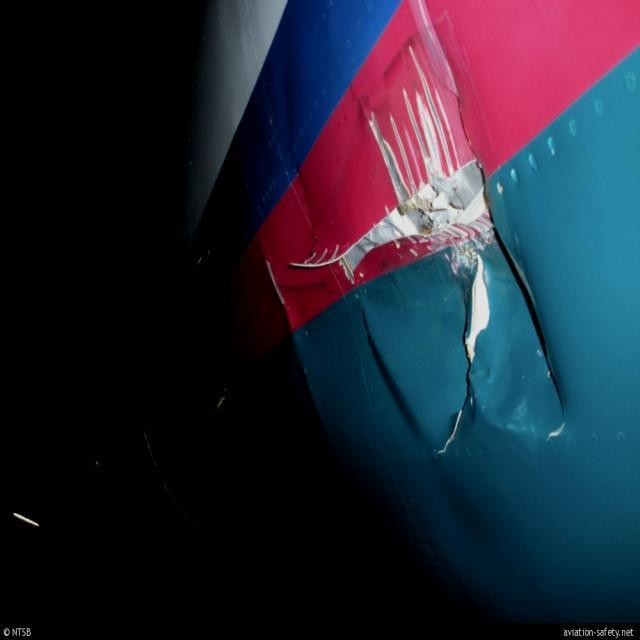crack: (435, 294, 490, 456)
dent: (359, 301, 439, 450), (479, 272, 542, 437)
